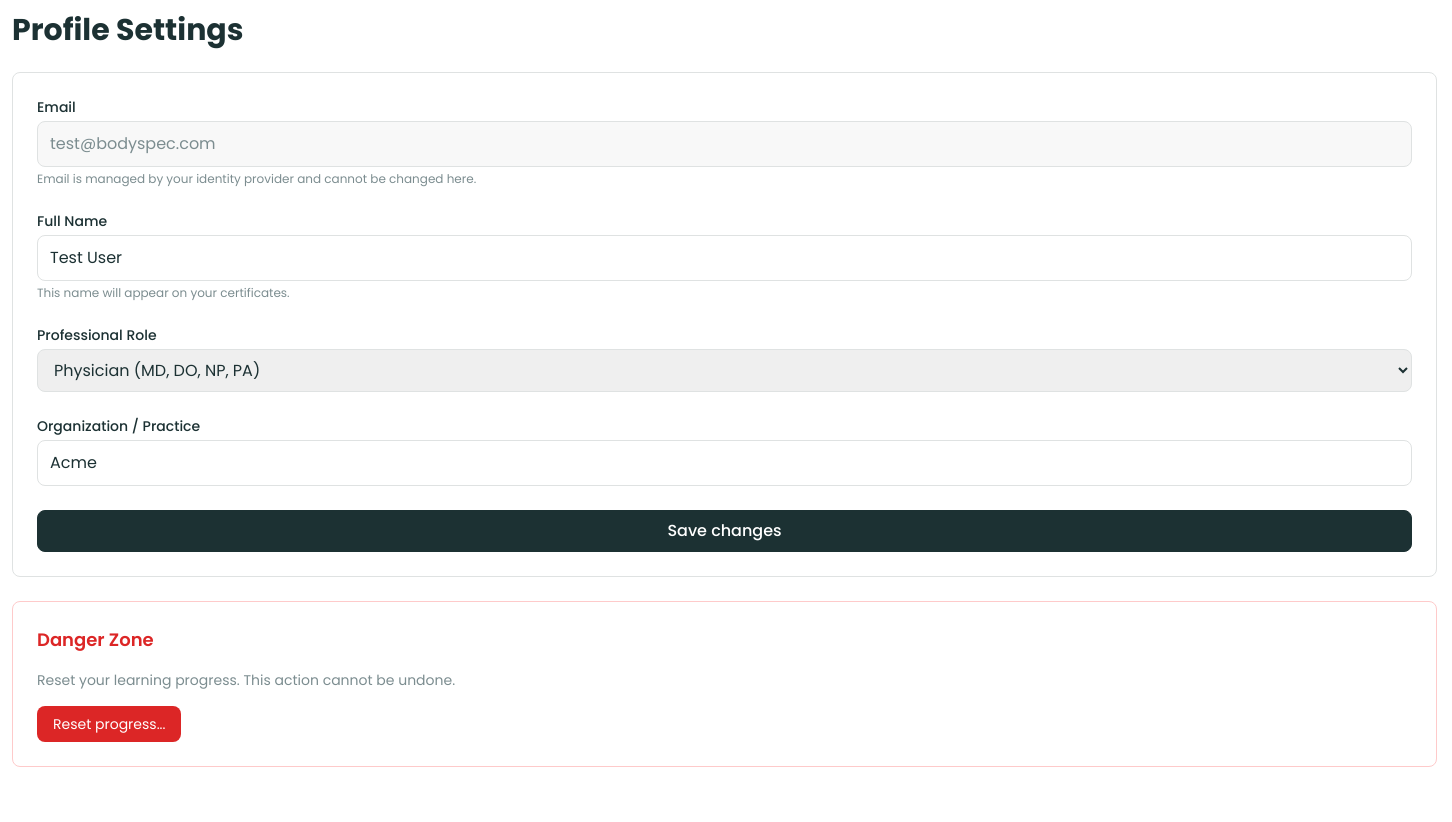
Test: ProfilePage › shows error message on failure
Click the button "Save changes". click: (724, 531)
box: [37,510,1412,552]
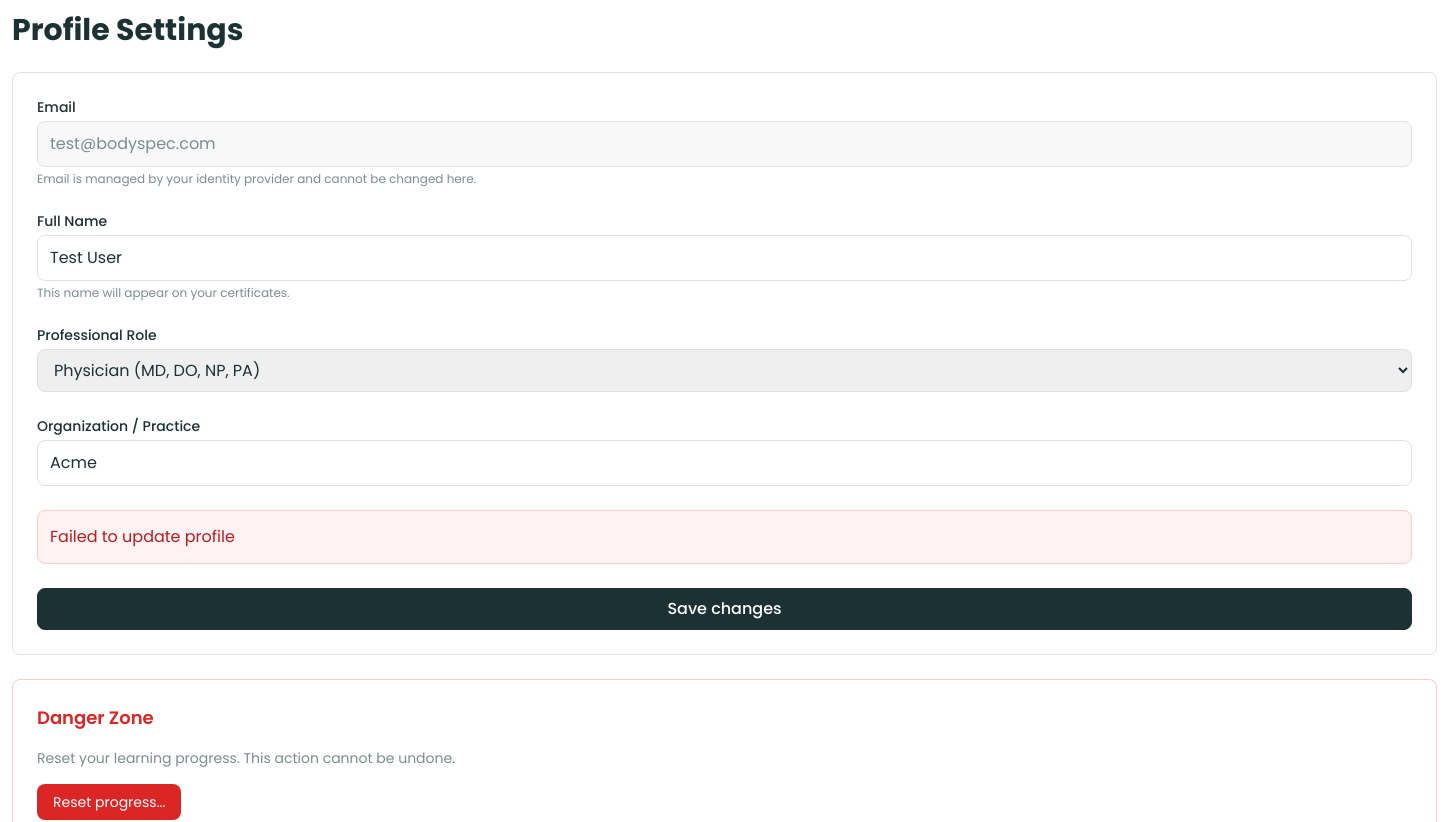
Now the text "Failed to update profile" is shown, box [37,510,1412,564]
